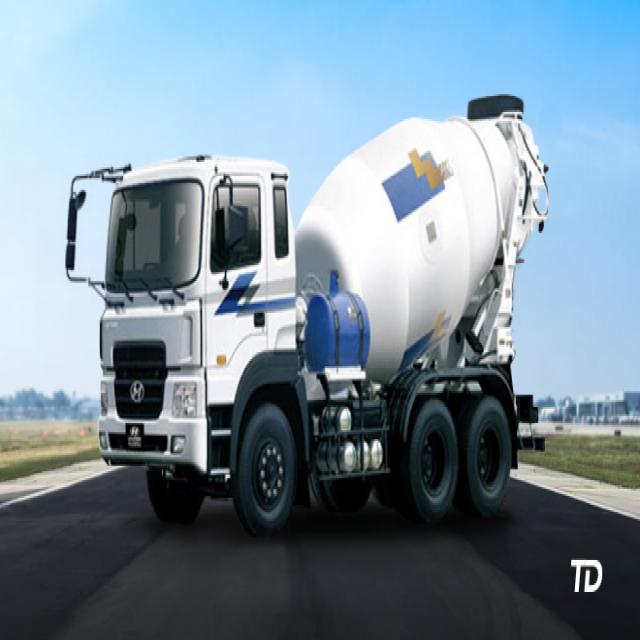Mixer Truck: (99, 95, 546, 537)
